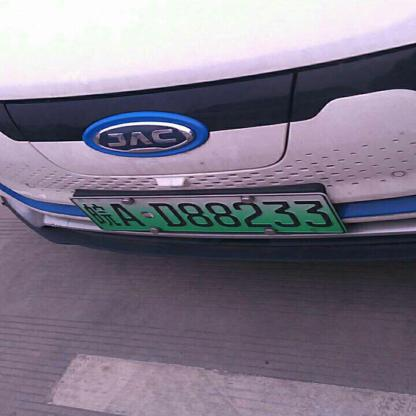lp: (71, 194, 347, 232)
